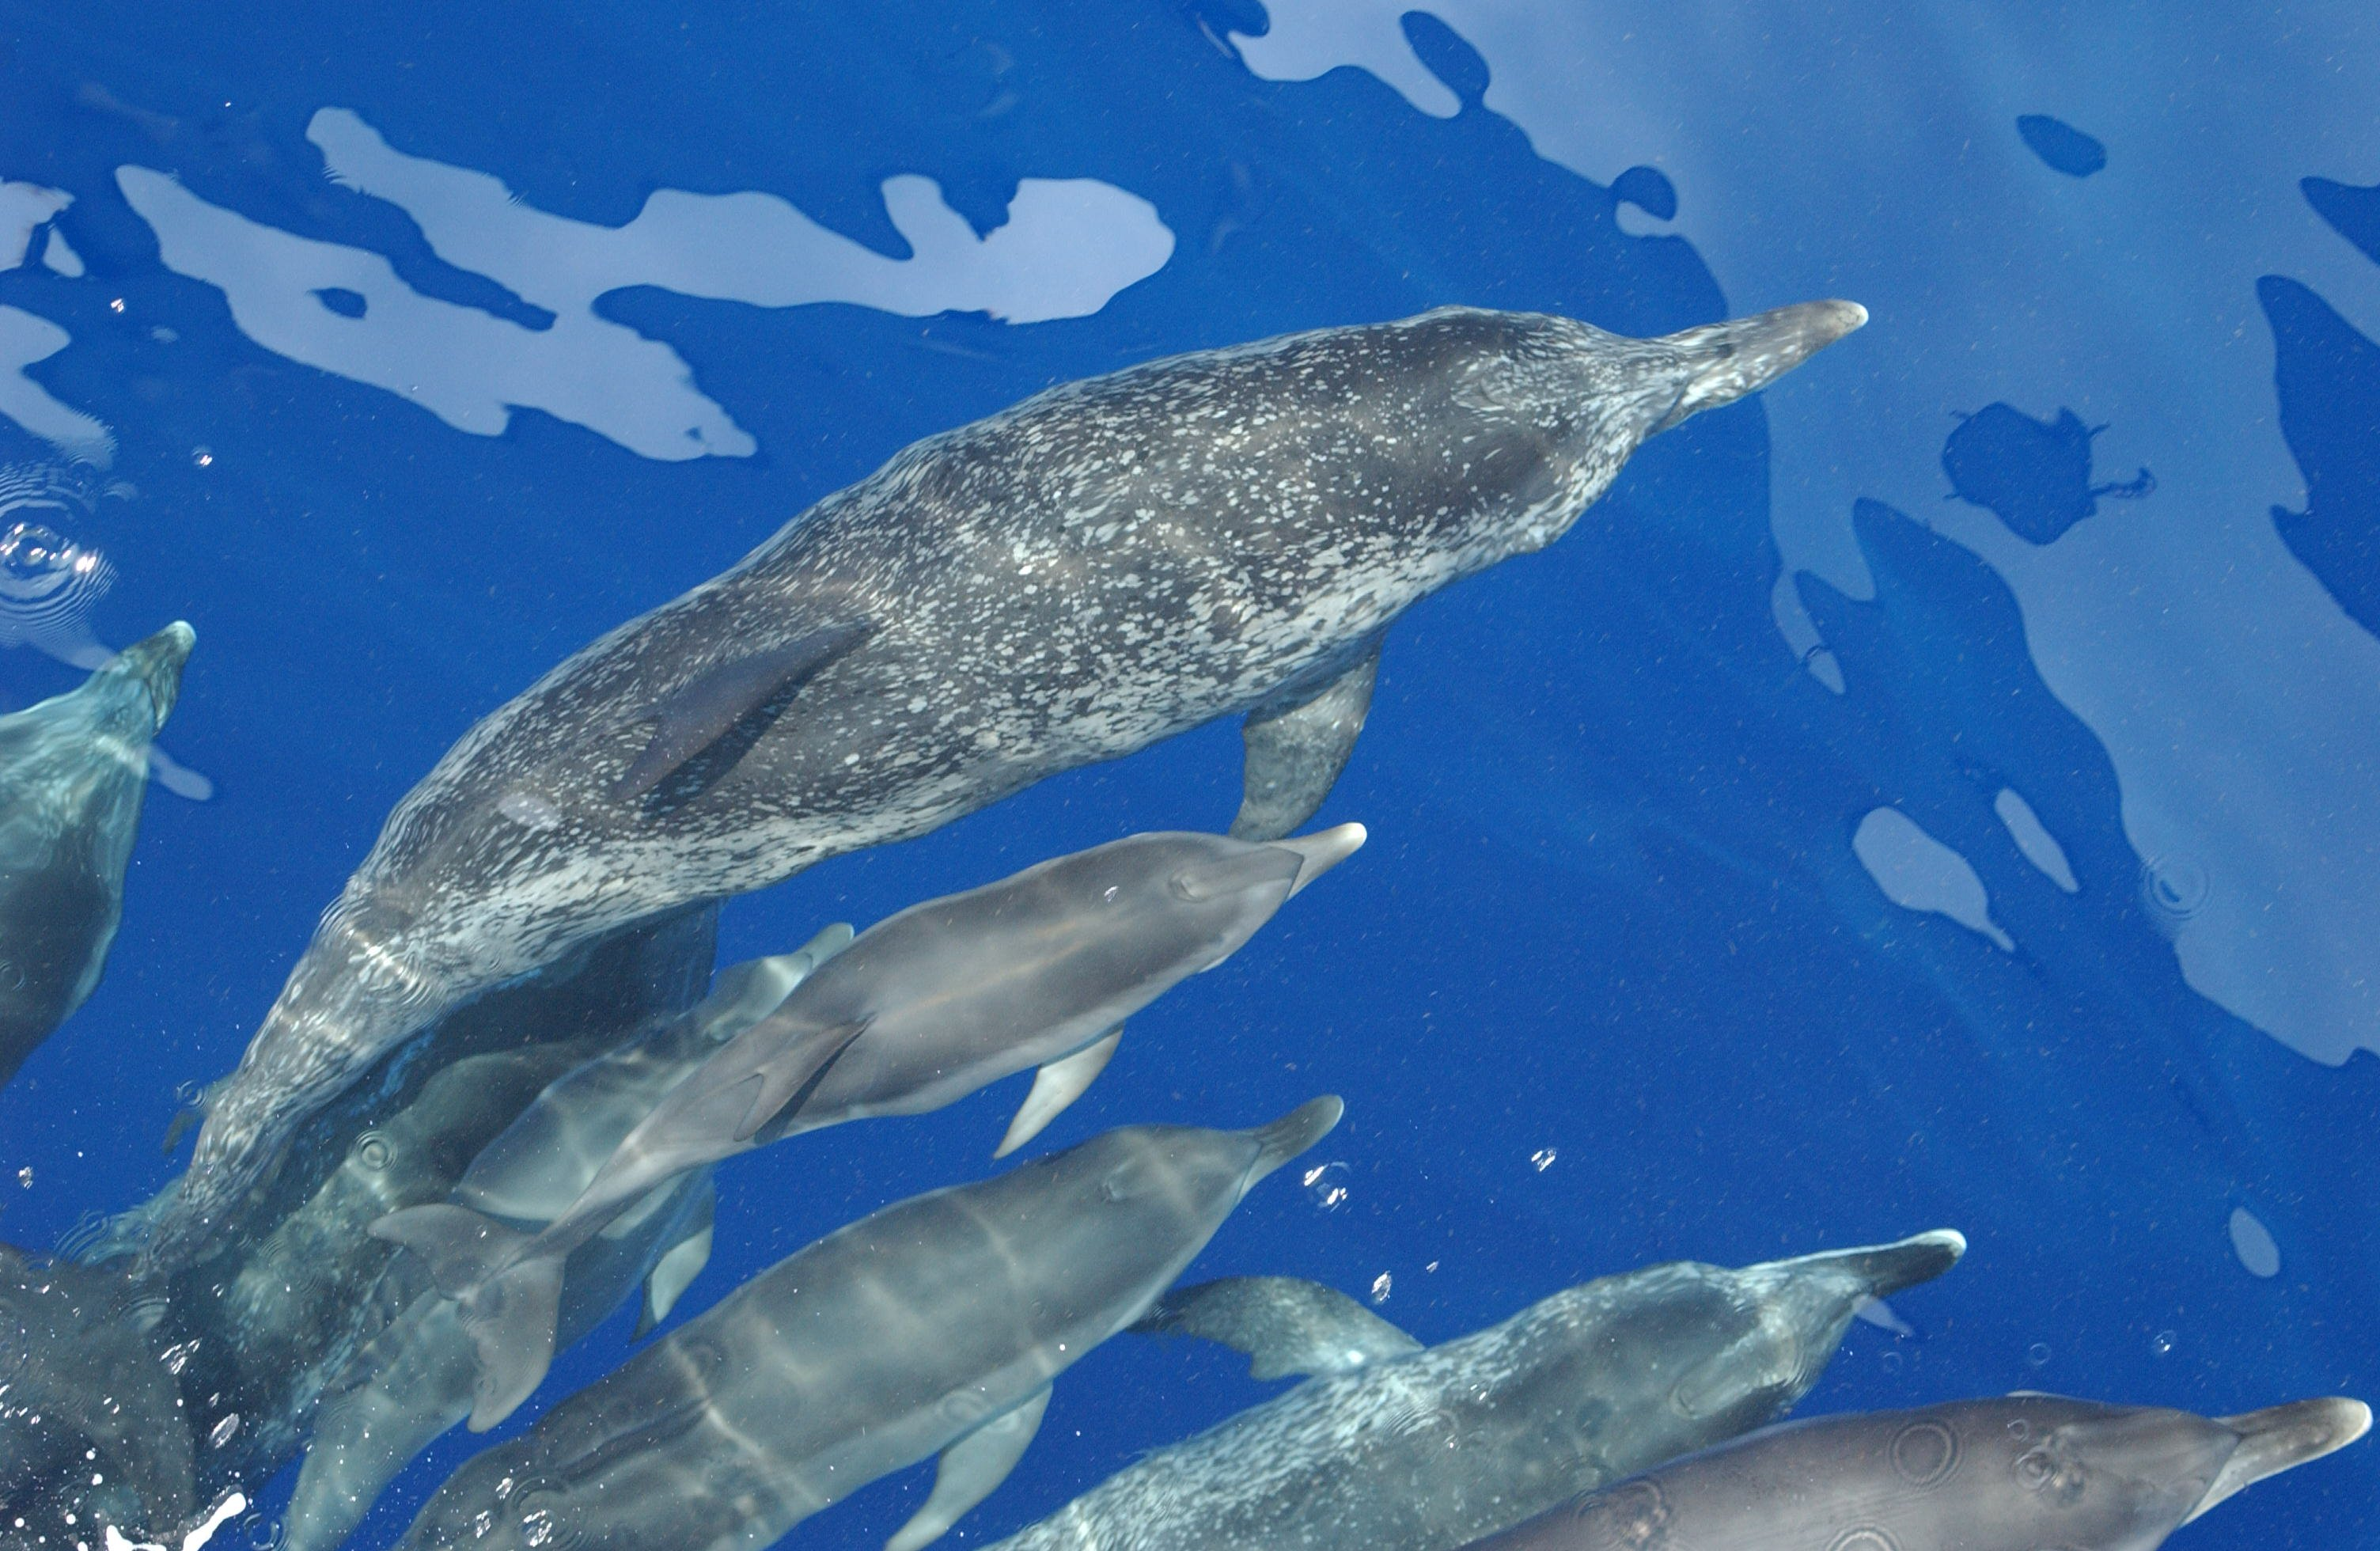dolphin: (116, 286, 1877, 1312), (368, 812, 1376, 1412), (415, 1090, 1357, 1542), (1018, 1220, 1984, 1542), (1481, 1384, 2371, 1551), (0, 607, 206, 1135)
